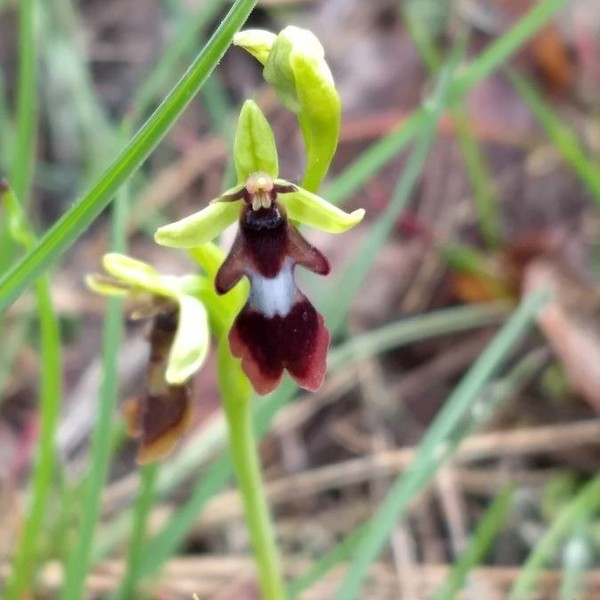obstacle: (1, 19, 355, 416), (11, 2, 92, 10)
